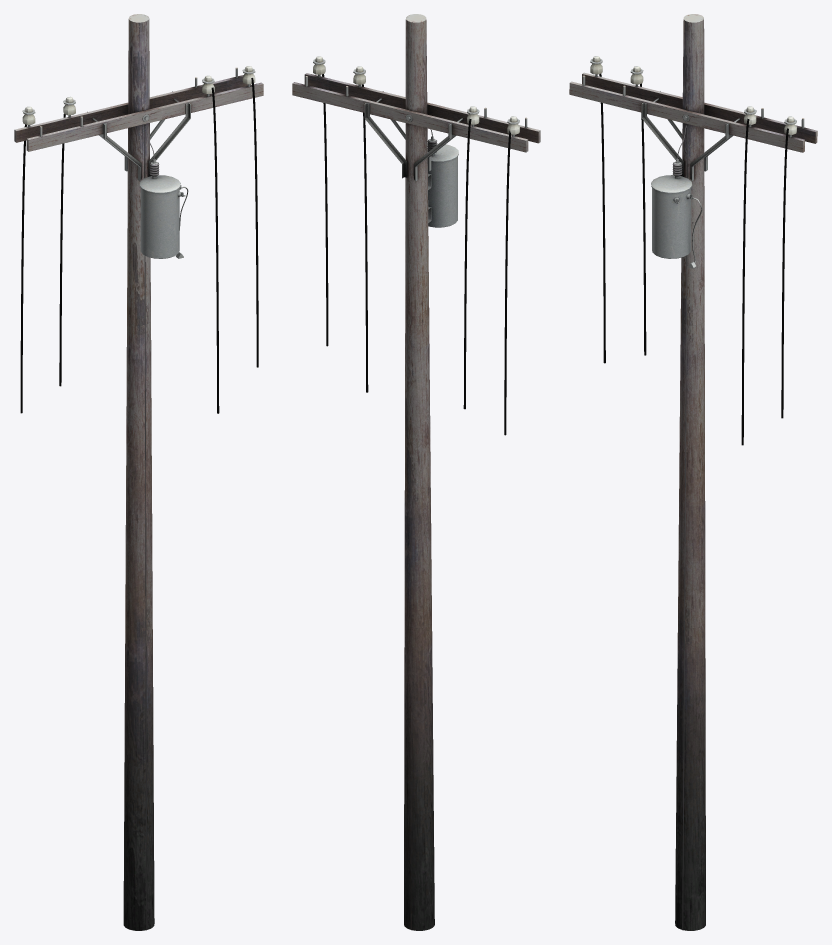
Rendered from PoleNew.fbx.
3 views of the same model, side by side, from view 1: azimuth 30°, elevation 25°; view 2: azimuth 150°, elevation 25°; view 3: azimuth 330°, elevation 25° (orthographic).
Visible parts, largest first — view 1: Power Pole, Cable3, Cable4, Cable1, Cable2; view 2: Power Pole, Cable1, Cable2, Cable3, Cable4; view 3: Power Pole, Cable3, Cable4, Cable1, Cable2.
Boxes of the visible parts, box(x1,y1,x2,y2) form: Power Pole: box(14, 14, 263, 930); Cable3: box(211, 87, 219, 413); Cable4: box(251, 78, 258, 367); Cable1: box(20, 124, 26, 413); Cable2: box(59, 114, 65, 386); Power Pole: box(292, 14, 540, 930); Cable1: box(504, 131, 510, 435); Cable2: box(463, 119, 471, 409); Cable3: box(361, 84, 368, 392); Cable4: box(322, 74, 328, 346); Power Pole: box(569, 14, 817, 930); Cable3: box(741, 118, 749, 445); Cable4: box(781, 128, 788, 418); Cable1: box(599, 73, 605, 363); Cable2: box(640, 83, 646, 355).
Bounding box in the file's own units: 130 × 480 × 45.8.
